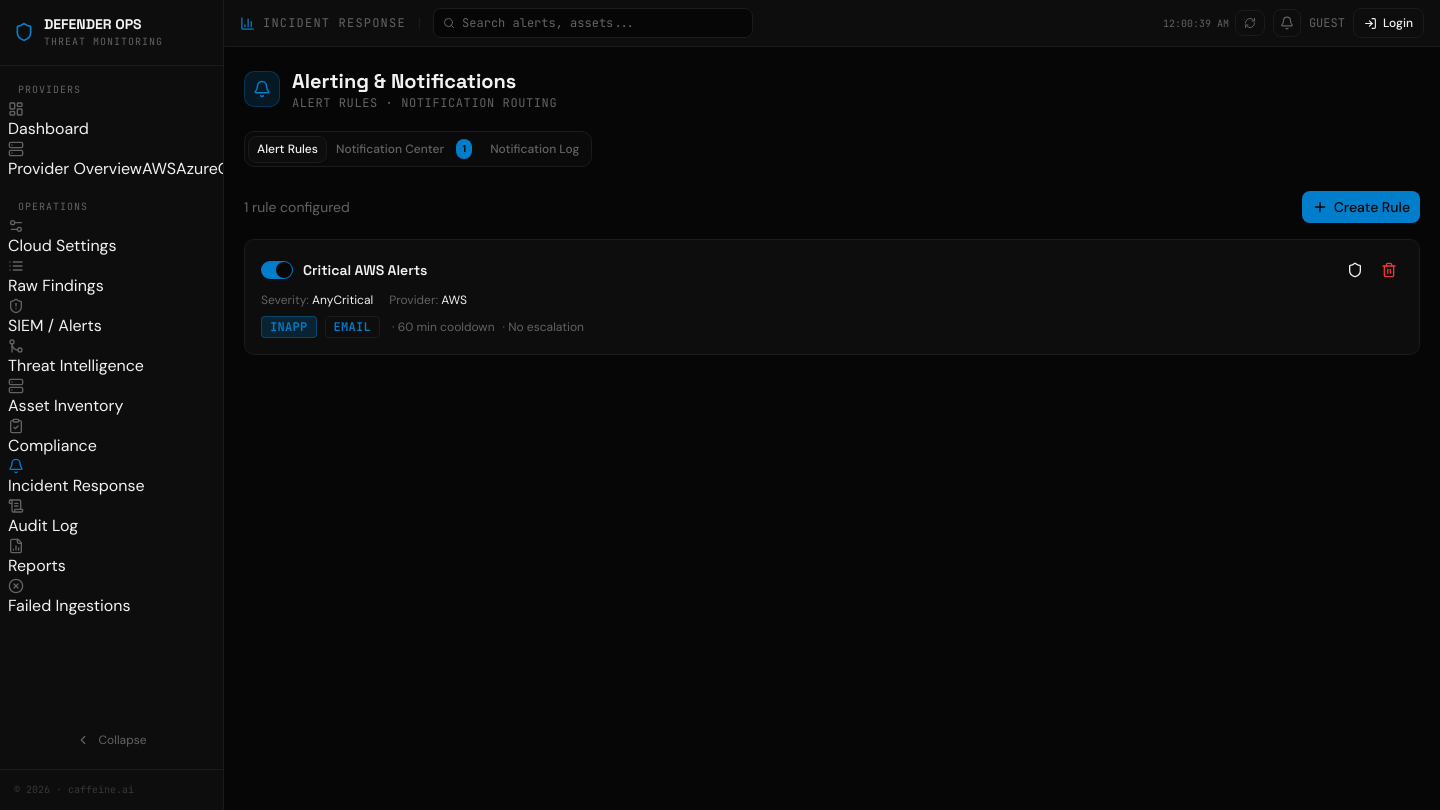
Scenario: NotificationsPage (characterize) › renders the notification log with channel, recipient and status
The width and height of the screenshot is (1440, 810).
Press the mouse on the tab with test id "notifications.log_tab" at (535,149), box [481,136,588,162]
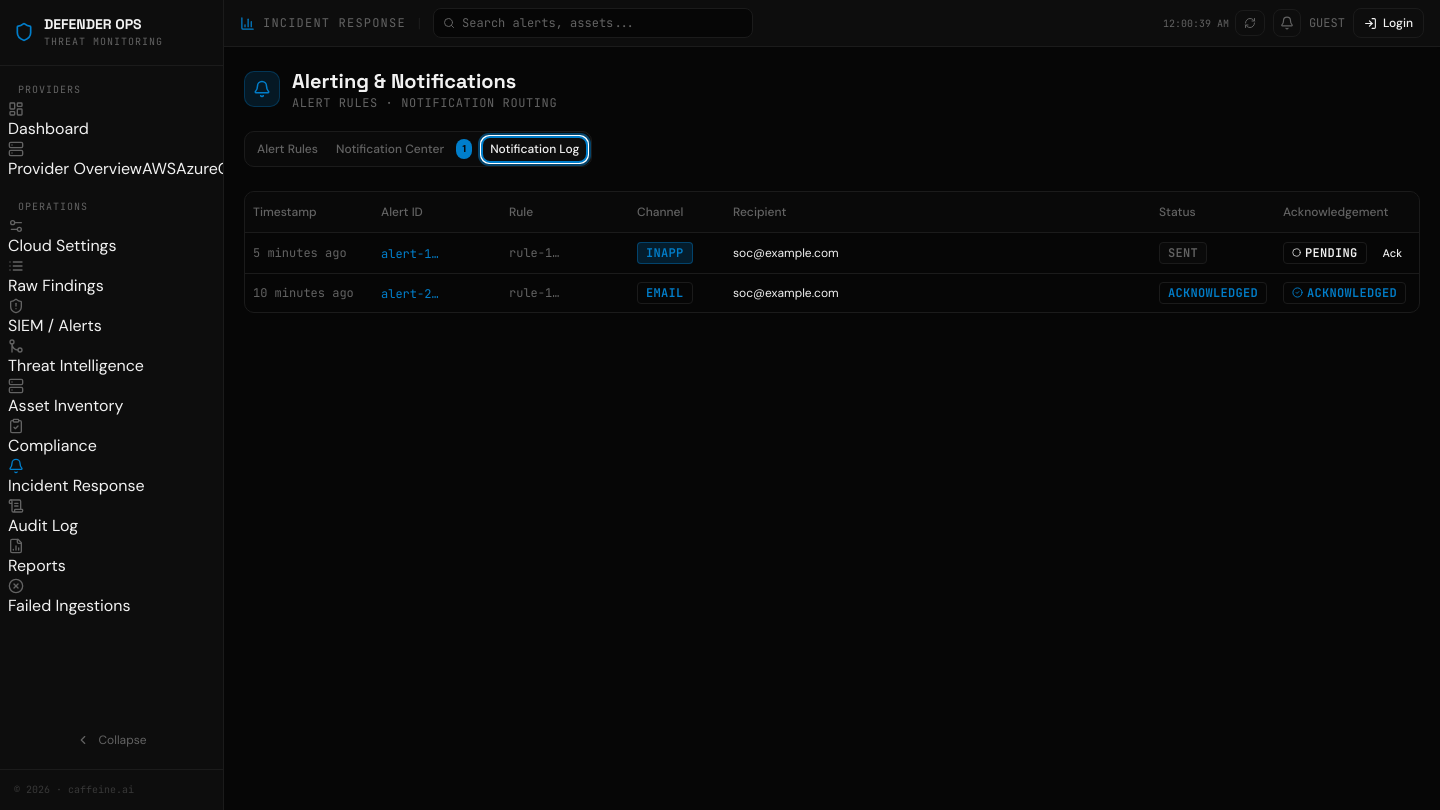
Now the row with test id "notifications.log.item.1" is shown, box [245,232,1419,273]
Now the row with test id "notifications.log.item.2" is shown, box [245,273,1419,312]
Now the text "soc@example.com" in the row of "5 minutes ago" is shown, box [733,244,839,260]
